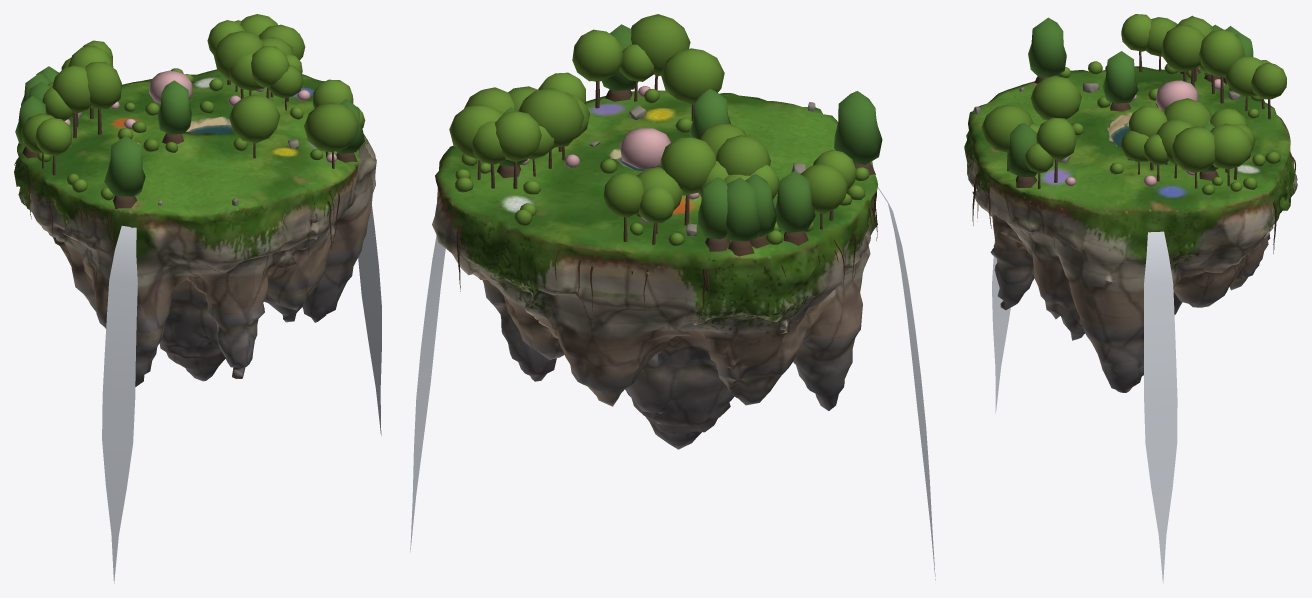
File: island-grove-lod1.glb
3 renders of one model, left to right at view 1: azimuth 30°, elevation 25°; view 2: azimuth 150°, elevation 25°; view 3: azimuth 270°, elevation 25°, orthographic. The views are drawn at different scales.
Visible parts, largest first — view 1: Terrain, Detail; view 2: Terrain, Detail; view 3: Terrain, Detail.
Boxes of the visible parts, <box> form: Terrain: <box>14,69,376,386</box>; Detail: <box>14,14,381,583</box>; Terrain: <box>432,90,877,449</box>; Detail: <box>410,14,935,580</box>; Terrain: <box>964,66,1297,392</box>; Detail: <box>972,14,1295,583</box>.
Size of the model in its own units: 71.95 by 82.66 by 58.58.
Materials: 3 (1 with a texture image).
